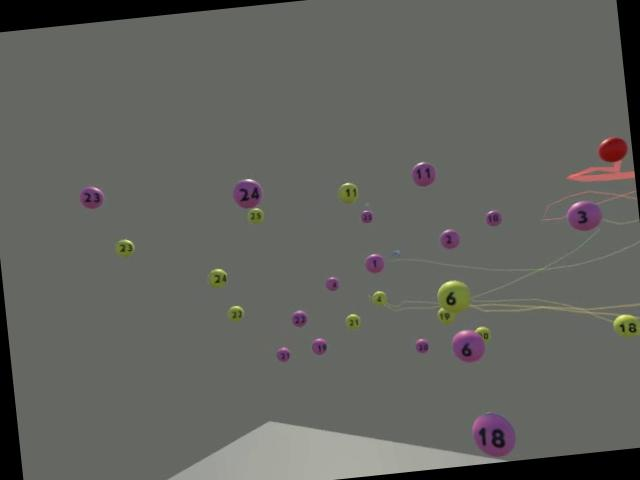ball_01_pink: (364, 253, 384, 274)
ball_02_pink: (438, 228, 460, 250)
ball_03_pink: (564, 199, 602, 232)
ball_04_pink: (324, 275, 339, 292)
ball_04_yellow: (371, 289, 387, 306)
ball_06_pink: (449, 328, 486, 364)
ball_06_yellow: (435, 278, 471, 314)
ball_10_pink: (484, 209, 502, 227)
ball_11_pink: (410, 161, 436, 187)
ball_11_yellow: (337, 181, 358, 204)
ball_18_pink: (468, 409, 516, 459)
ball_18_yellow: (611, 312, 640, 338)
ball_19_pink: (310, 337, 327, 355)
ball_20_pink: (414, 338, 429, 354)
ball_21_pink: (275, 346, 290, 362)
ball_21_yellow: (344, 312, 362, 330)
ball_22_pink: (290, 308, 308, 328)
ball_22_yellow: (226, 304, 244, 322)
ball_23_pink: (78, 184, 105, 210)
ball_23_yellow: (114, 238, 134, 258)
ball_24_pink: (231, 177, 263, 209)
ball_24_yellow: (206, 267, 228, 289)
ball_25_pink: (359, 210, 374, 224)
ball_25_yellow: (246, 206, 264, 224)
ball_unknown: (436, 306, 456, 326), (474, 325, 491, 342)
user_cursor: (596, 134, 628, 164)
